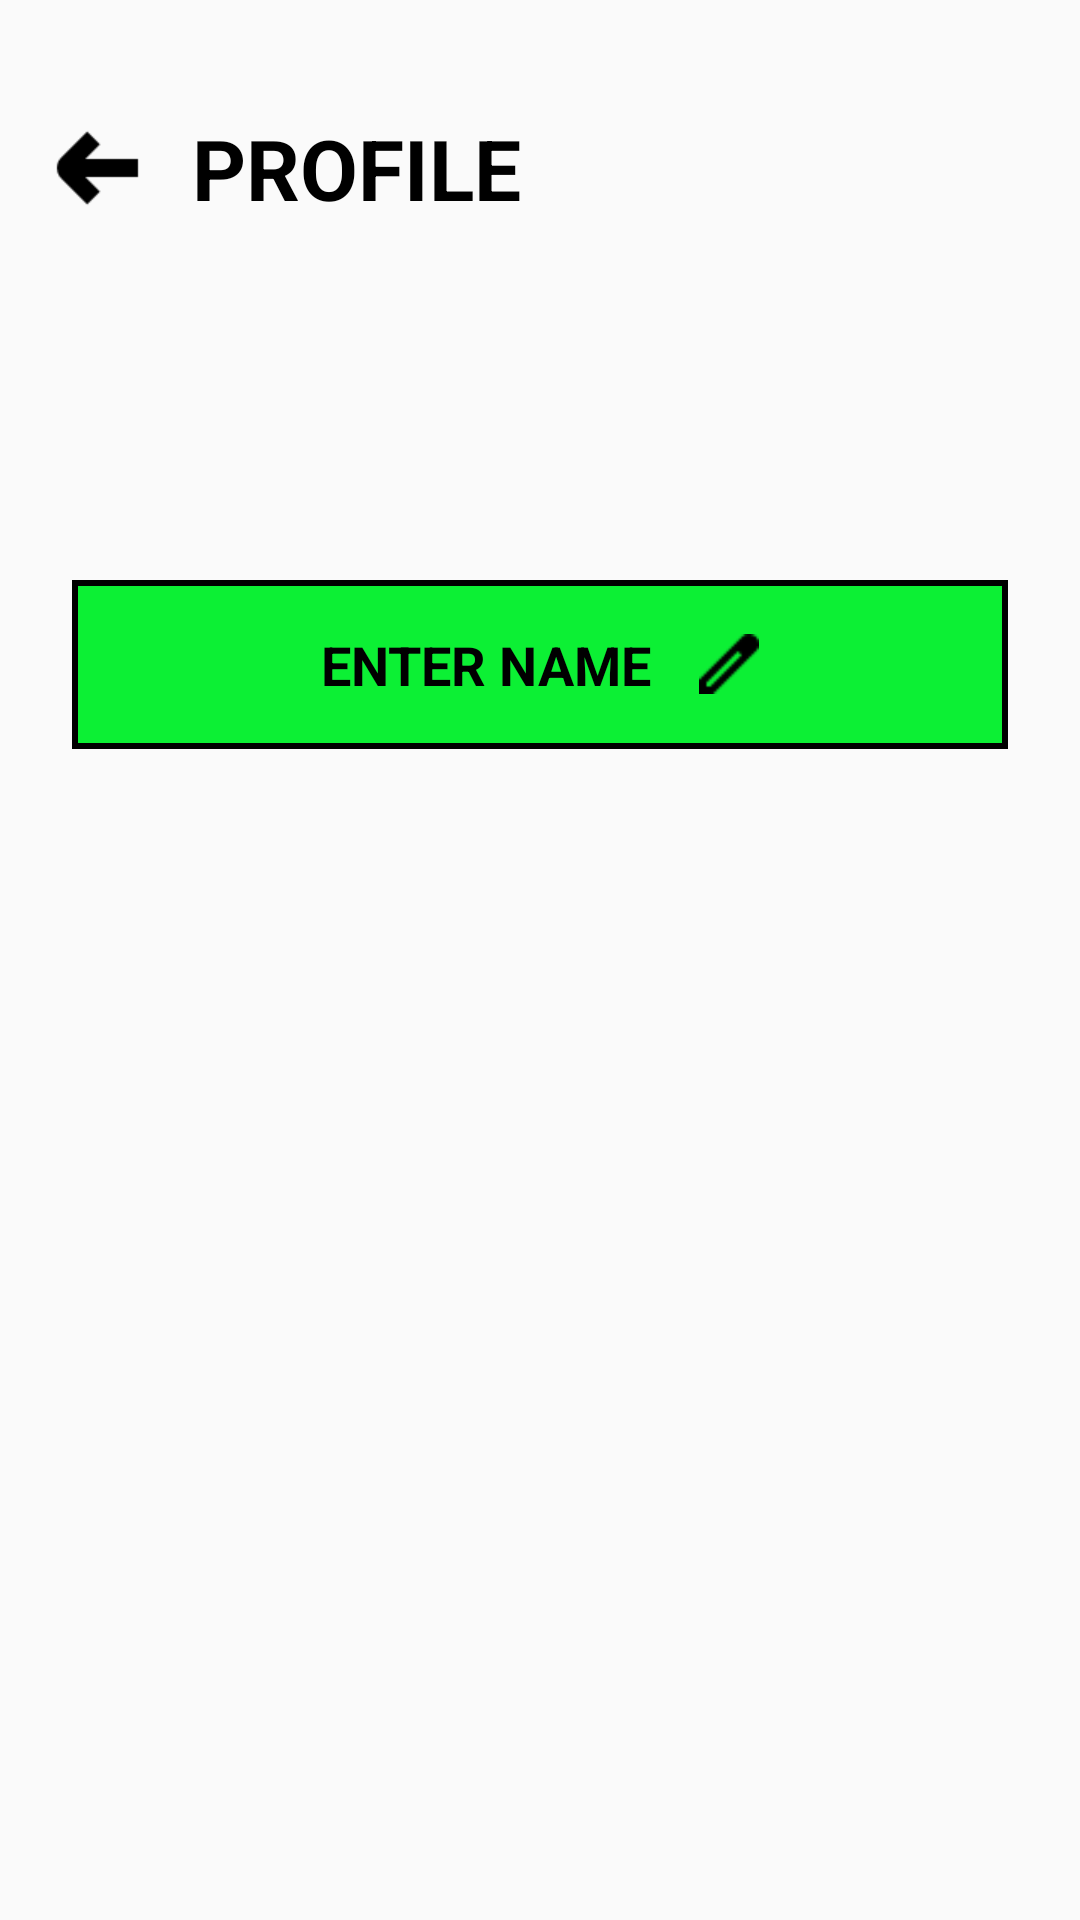

Where icons sit on this 1080*1920 app screen, as (x1, y1, x2, y2):
pencil: (699, 634, 759, 694)
